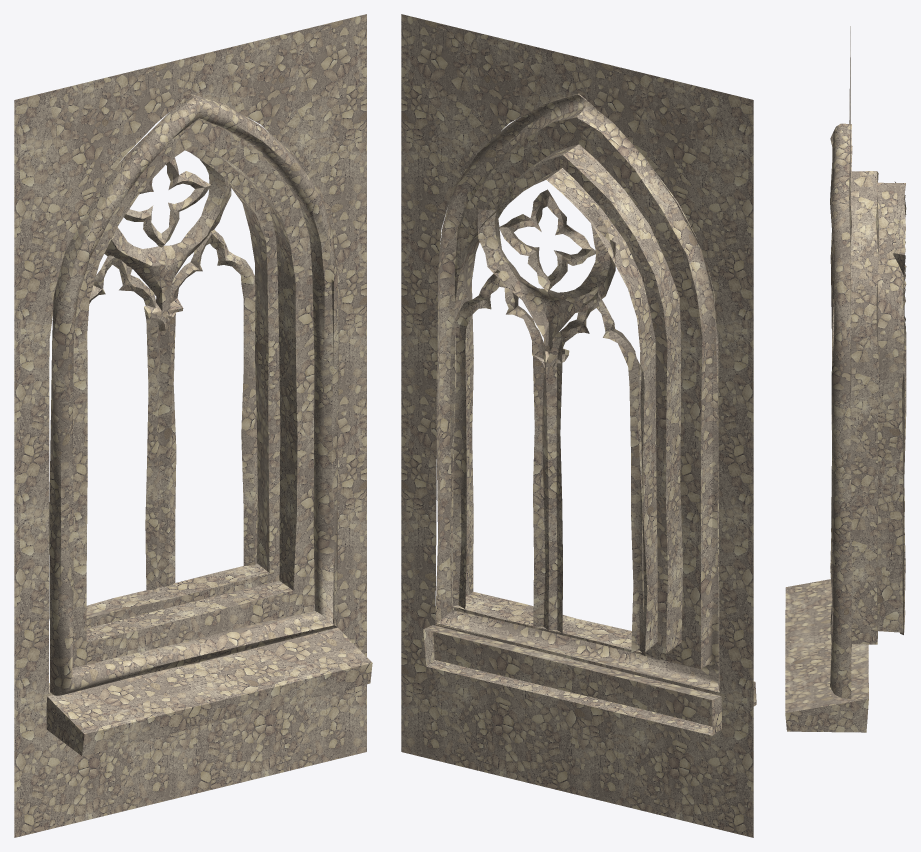
The model's file is SM_Ruins_Window_01.fbx.
The picture shows the model from 3 angles, left to right: view 1: azimuth 30°, elevation 25°; view 2: azimuth 150°, elevation 25°; view 3: azimuth 270°, elevation 25°; orthographic projection. The views are drawn at different scales.
Parts seen in each view (by area): view 1: Window_1; view 2: Window_1; view 3: Window_1.
Part boxes in pixels (x1,y1,x2,y2): Window_1: [14, 14, 372, 837]; Window_1: [401, 14, 756, 837]; Window_1: [785, 26, 906, 732].
Bounding box in the file's own units: 200 × 400 × 66.
